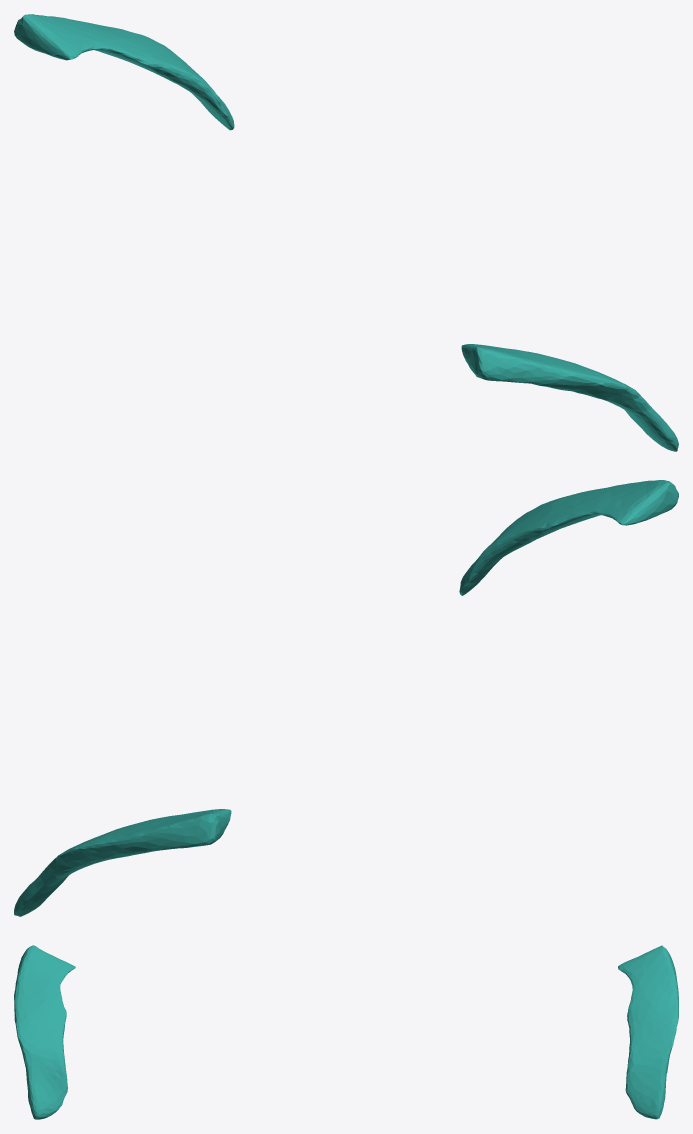
3 views of the same model, one above another, from view 1: azimuth 30°, elevation 25°; view 2: azimuth 150°, elevation 25°; view 3: azimuth 270°, elevation 25° (orthographic). The views are drawn at different scales.
Visible parts, largest first — view 1: 922.obj; view 2: 922.obj; view 3: 922.obj.
Part boxes in pixels (x1,y1,x2,y2): 922.obj: (14,14,678,451); 922.obj: (14,480,678,916); 922.obj: (14,945,678,1119).
Size of the model in its own units: 2533 by 1796 by 10100.
